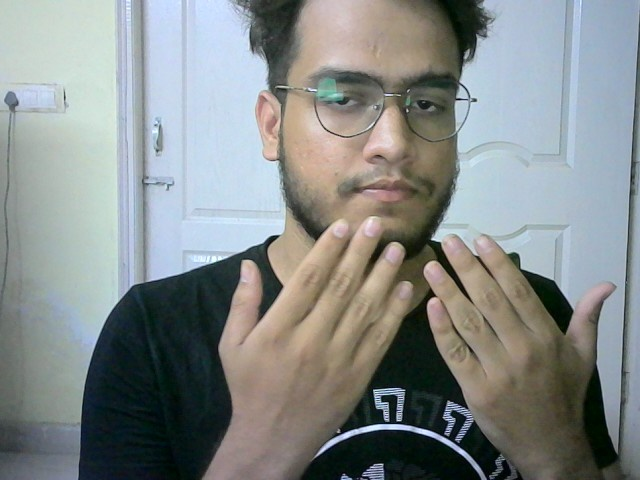Thank You: (218, 216, 619, 416)
